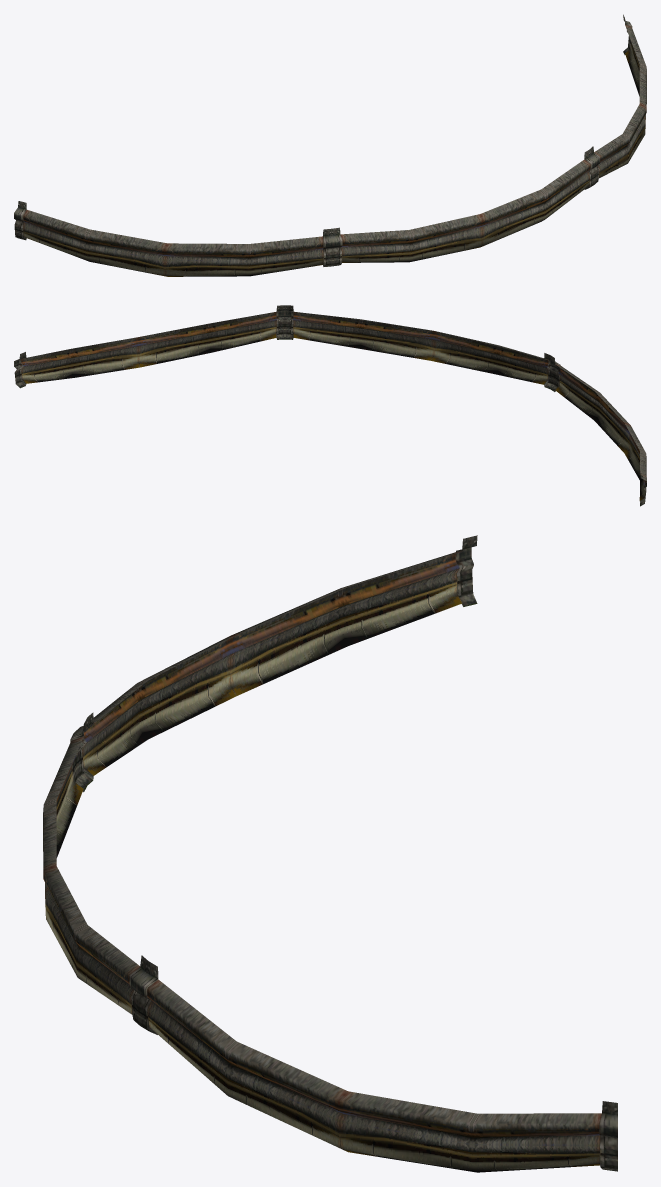
The model's file is M12_SidePipes_B.glb.
The picture shows the model from 3 angles, top to bottom: view 1: azimuth 30°, elevation 25°; view 2: azimuth 150°, elevation 25°; view 3: azimuth 270°, elevation 25°; orthographic projection. The views are drawn at different scales.
Visible parts, largest first — view 1: M12_SIDEPIPES_B; view 2: M12_SIDEPIPES_B; view 3: M12_SIDEPIPES_B.
Boxes of the visible parts, box(x1,y1,x2,y2) form: M12_SIDEPIPES_B: box(14, 14, 646, 276); M12_SIDEPIPES_B: box(14, 305, 646, 506); M12_SIDEPIPES_B: box(43, 535, 617, 1172).
Size of the model in its own units: 11.58 by 0.93 by 4.83.
Materials: 1 (1 with a texture image).
